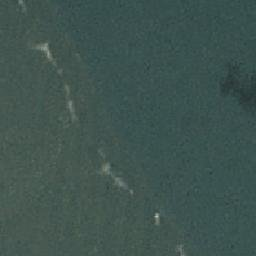debris: (39, 41, 54, 62), (114, 178, 133, 192), (67, 97, 75, 120), (101, 160, 111, 176), (153, 212, 162, 228)
